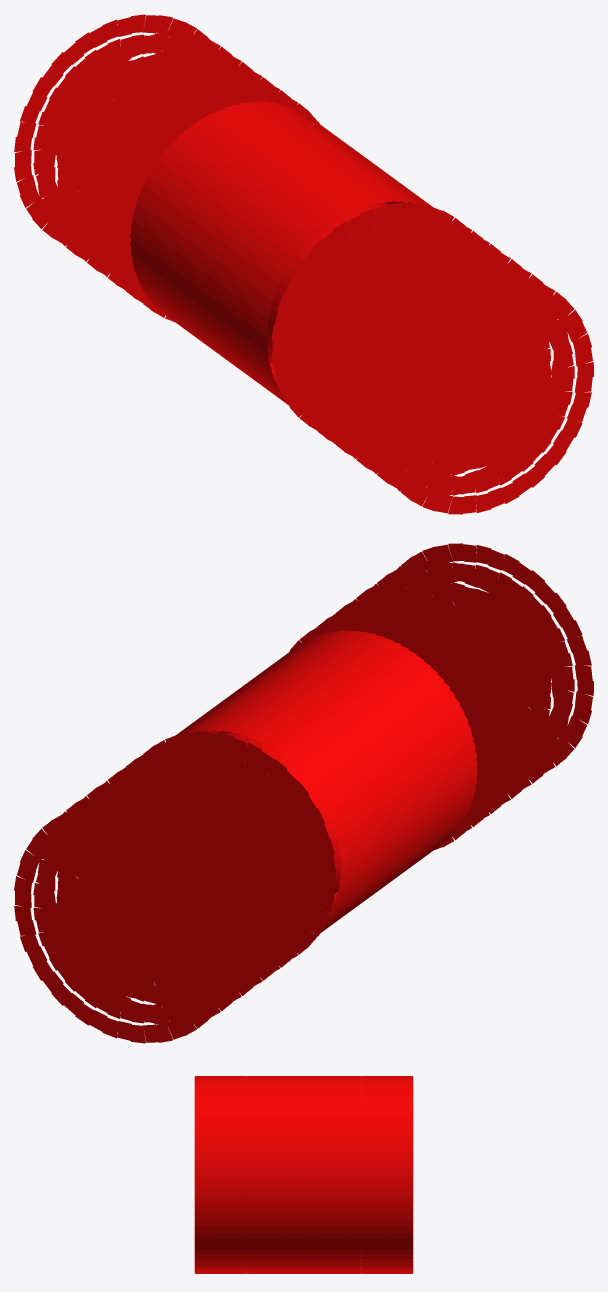
3 views of the same model, one above another, from view 1: azimuth 30°, elevation 25°; view 2: azimuth 150°, elevation 25°; view 3: azimuth 270°, elevation 25° (orthographic). The views are drawn at different scales.
Parts seen in each view (by area): view 1: OpenDataTracker|LongStrips|LongStripBarrel|LongStripLayer1_sensi, OpenDataTracker|LongStrips|LongStripEndcapP|LongStripEndcapP5_se, OpenDataTracker|ShortStrips|ShortStripEndcapP|ShortStripEndcapP5, OpenDataTracker|LongStrips|LongStripEndcapP|LongStripEndcapP4_se, OpenDataTracker|LongStrips|LongStripEndcapN|LongStripEndcapN5_se, OpenDataTracker|LongStrips|LongStripEndcapP|LongStripEndcapP3_se, OpenDataTracker|LongStrips|LongStripEndcapP|LongStripEndcapP2_se, OpenDataTracker|LongStrips|LongStripEndcapN|LongStripEndcapN4_se, OpenDataTracker|LongStrips|LongStripEndcapN|LongStripEndcapN3_se, OpenDataTracker|LongStrips|LongStripEndcapP|LongStripEndcapP1_se, OpenDataTracker|LongStrips|LongStripEndcapP|LongStripEndcapP0_se, OpenDataTracker|LongStrips|LongStripEndcapN|LongStripEndcapN2_se (+6 smaller); view 2: OpenDataTracker|LongStrips|LongStripBarrel|LongStripLayer1_sensi, OpenDataTracker|LongStrips|LongStripEndcapN|LongStripEndcapN5_se, OpenDataTracker|ShortStrips|ShortStripEndcapN|ShortStripEndcapN5, OpenDataTracker|LongStrips|LongStripEndcapN|LongStripEndcapN4_se, OpenDataTracker|LongStrips|LongStripEndcapP|LongStripEndcapP5_se, OpenDataTracker|LongStrips|LongStripEndcapN|LongStripEndcapN3_se, OpenDataTracker|LongStrips|LongStripEndcapN|LongStripEndcapN2_se, OpenDataTracker|LongStrips|LongStripEndcapP|LongStripEndcapP4_se, OpenDataTracker|LongStrips|LongStripEndcapP|LongStripEndcapP3_se, OpenDataTracker|LongStrips|LongStripEndcapN|LongStripEndcapN1_se, OpenDataTracker|LongStrips|LongStripEndcapN|LongStripEndcapN0_se, OpenDataTracker|LongStrips|LongStripEndcapP|LongStripEndcapP2_se (+6 smaller); view 3: OpenDataTracker|LongStrips|LongStripBarrel|LongStripLayer1_sensi.
Boxes of the visible parts, x1,y1,x2,y2 form: OpenDataTracker|LongStrips|LongStripBarrel|LongStripLayer1_sensi: (130,101,432,414); OpenDataTracker|LongStrips|LongStripEndcapP|LongStripEndcapP5_se: (372,277,593,514); OpenDataTracker|ShortStrips|ShortStripEndcapP|ShortStripEndcapP5: (406,315,551,470); OpenDataTracker|LongStrips|LongStripEndcapP|LongStripEndcapP4_se: (348,259,568,496); OpenDataTracker|LongStrips|LongStripEndcapN|LongStripEndcapN5_se: (14,14,218,245); OpenDataTracker|LongStrips|LongStripEndcapP|LongStripEndcapP3_se: (328,244,549,478); OpenDataTracker|LongStrips|LongStripEndcapP|LongStripEndcapP2_se: (307,229,508,456); OpenDataTracker|LongStrips|LongStripEndcapN|LongStripEndcapN4_se: (38,32,238,259); OpenDataTracker|LongStrips|LongStripEndcapN|LongStripEndcapN3_se: (58,47,253,274); OpenDataTracker|LongStrips|LongStripEndcapP|LongStripEndcapP1_se: (289,216,488,443); OpenDataTracker|LongStrips|LongStripEndcapP|LongStripEndcapP0_se: (271,203,471,430); OpenDataTracker|LongStrips|LongStripEndcapN|LongStripEndcapN2_se: (79,62,278,290); OpenDataTracker|LongStrips|LongStripBarrel|LongStripLayer1_sensi: (166,630,477,935); OpenDataTracker|LongStrips|LongStripEndcapN|LongStripEndcapN5_se: (14,805,235,1043); OpenDataTracker|ShortStrips|ShortStripEndcapN|ShortStripEndcapN5: (56,844,200,998); OpenDataTracker|LongStrips|LongStripEndcapN|LongStripEndcapN4_se: (38,788,259,1025); OpenDataTracker|LongStrips|LongStripEndcapP|LongStripEndcapP5_se: (397,543,593,772); OpenDataTracker|LongStrips|LongStripEndcapN|LongStripEndcapN3_se: (61,773,279,1006); OpenDataTracker|LongStrips|LongStripEndcapN|LongStripEndcapN2_se: (83,757,300,985); OpenDataTracker|LongStrips|LongStripEndcapP|LongStripEndcapP4_se: (374,561,570,788); OpenDataTracker|LongStrips|LongStripEndcapP|LongStripEndcapP3_se: (353,576,549,803); OpenDataTracker|LongStrips|LongStripEndcapN|LongStripEndcapN1_se: (124,744,318,971); OpenDataTracker|LongStrips|LongStripEndcapN|LongStripEndcapN0_se: (142,731,336,958); OpenDataTracker|LongStrips|LongStripEndcapP|LongStripEndcapP2_se: (334,591,528,817); OpenDataTracker|LongStrips|LongStripBarrel|LongStripLayer1_sensi: (194,1076,413,1273).
Size of the model in its own units: 2138 by 2138 by 6052.
